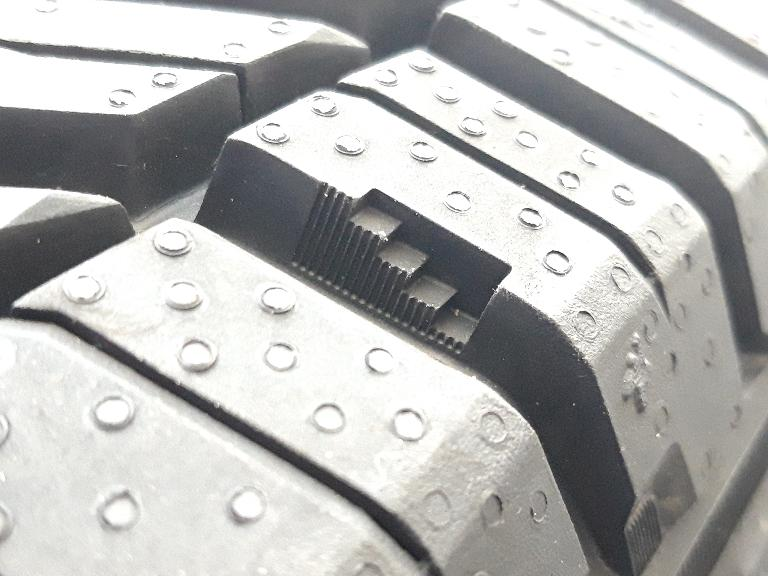temoin:100: (284, 164, 518, 362)
